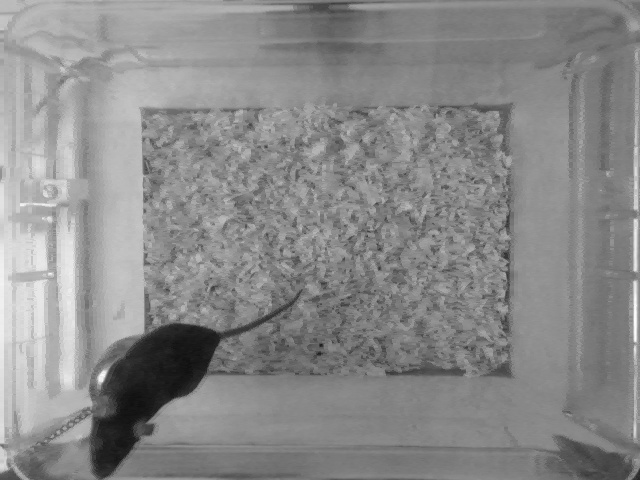mice: (87, 285, 306, 478)
